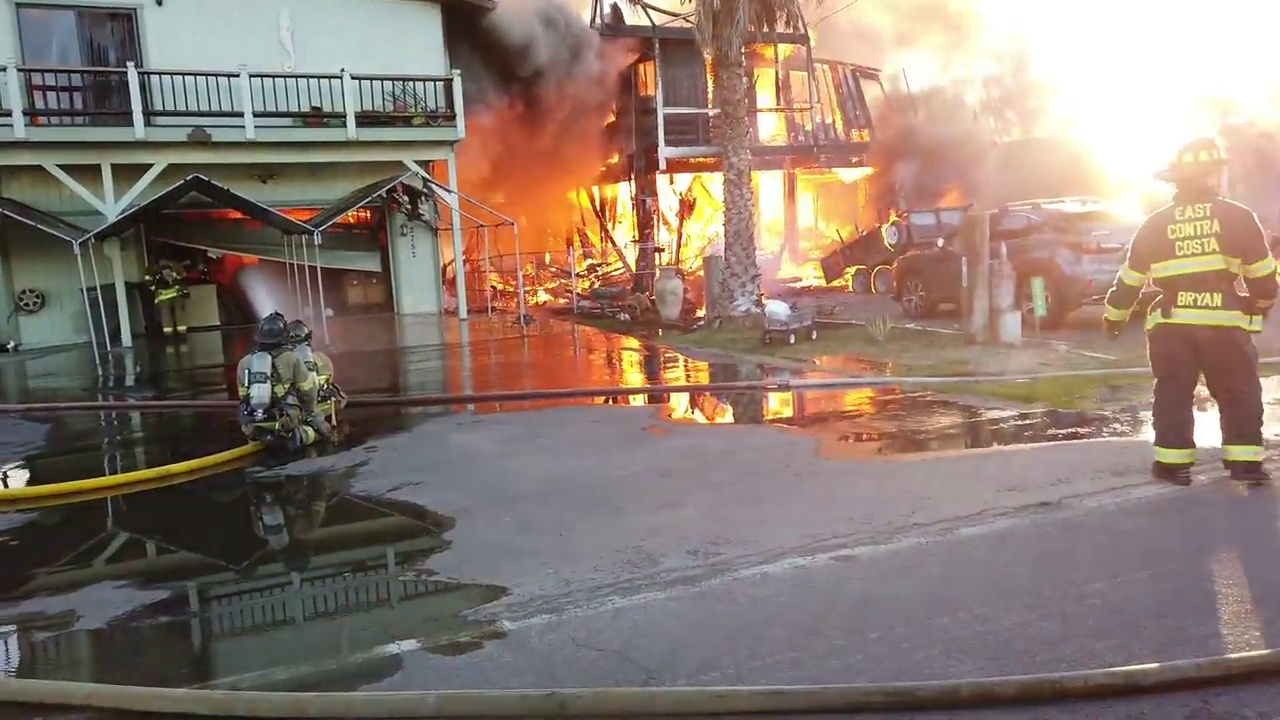fire: (870, 15, 1278, 213), (759, 172, 841, 280), (1067, 137, 1159, 219), (482, 246, 577, 309), (654, 172, 721, 255), (571, 192, 640, 269), (749, 37, 786, 143), (194, 206, 257, 228), (843, 265, 894, 292), (334, 206, 383, 233), (877, 215, 910, 252), (271, 201, 323, 224), (762, 387, 796, 413), (936, 187, 962, 204)
smoke: (862, 2, 1068, 203), (453, 1, 614, 194)
